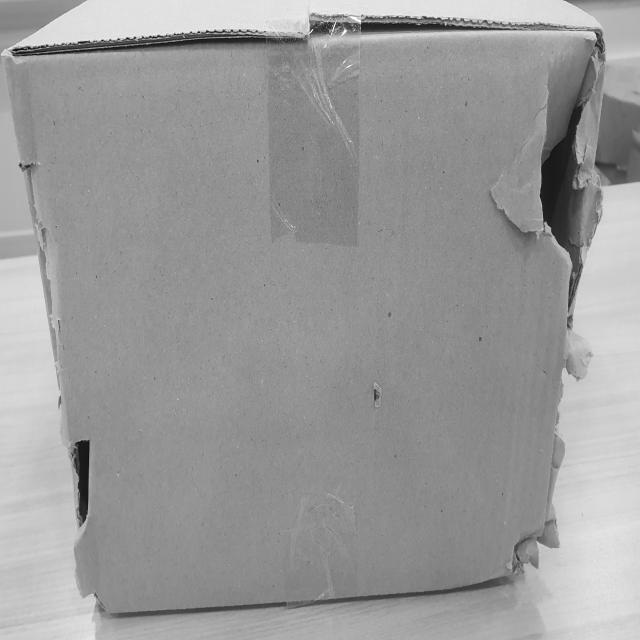hole: (534, 28, 604, 294), (60, 430, 100, 540)
